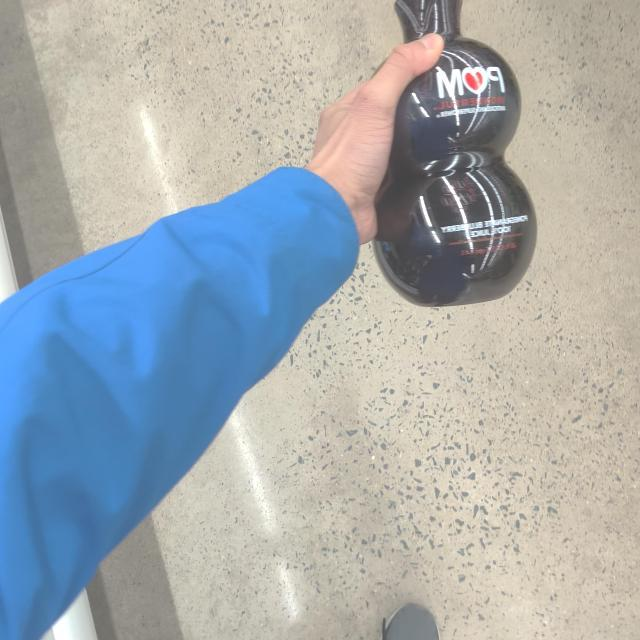Juice: (370, 0, 544, 330)
